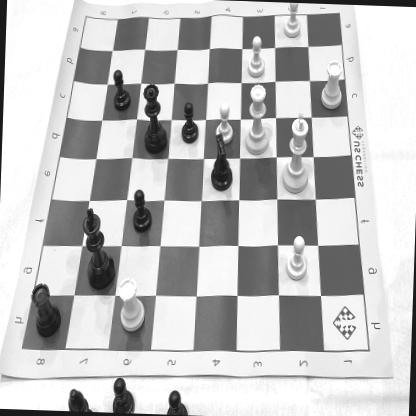black-king: (78, 202, 119, 295)
black-knight: (206, 134, 240, 196)
black-pawn: (130, 186, 154, 236), (180, 100, 202, 148), (110, 66, 132, 113)
black-queen: (140, 81, 172, 156)
black-rook: (32, 280, 64, 340)
white-king: (280, 106, 314, 196)
white-pawn: (284, 230, 312, 286), (213, 100, 239, 148), (246, 32, 270, 79), (283, 2, 305, 42)
white-queen: (242, 80, 274, 160)
white-rook: (114, 272, 148, 340), (318, 58, 348, 113)
